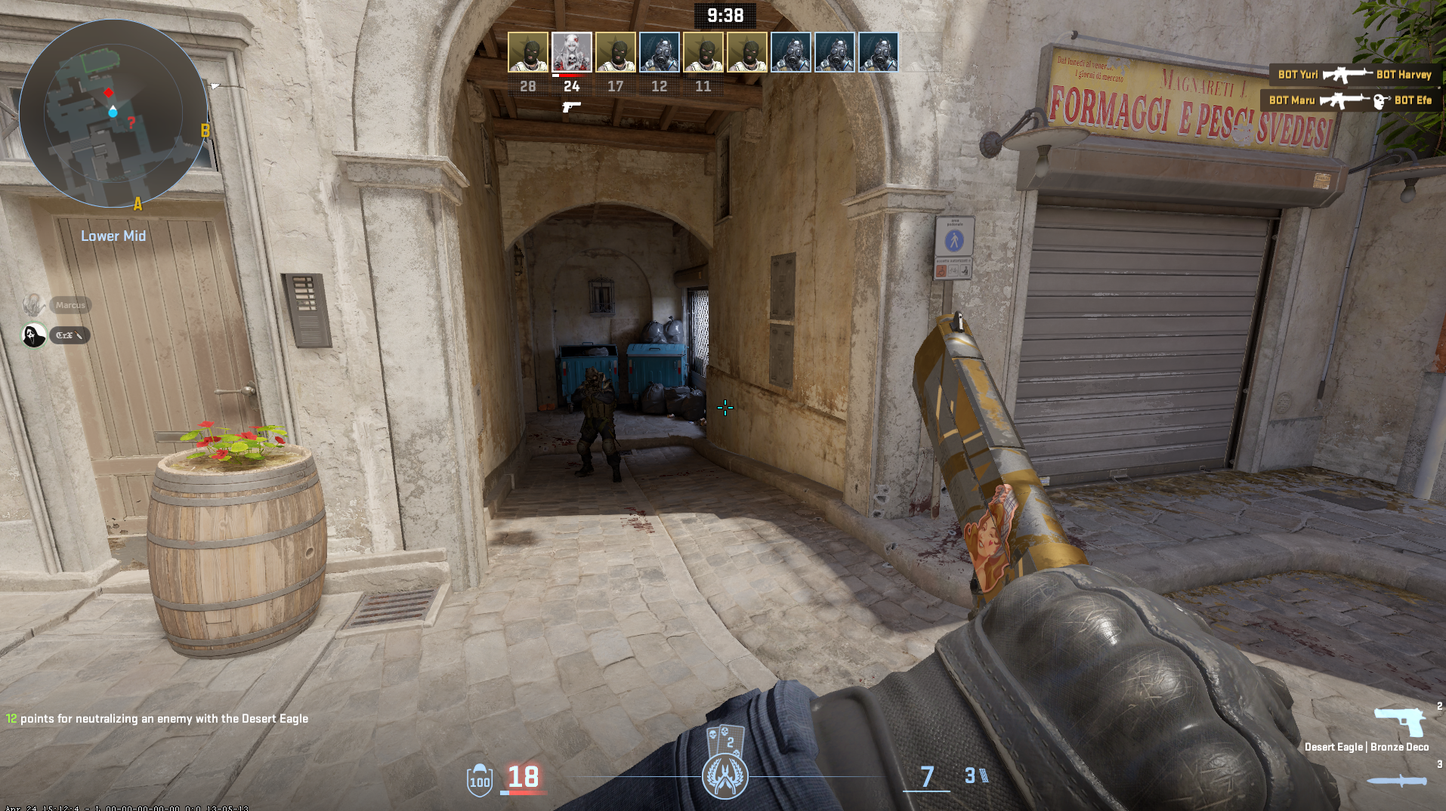CT: (574, 368, 621, 483)
